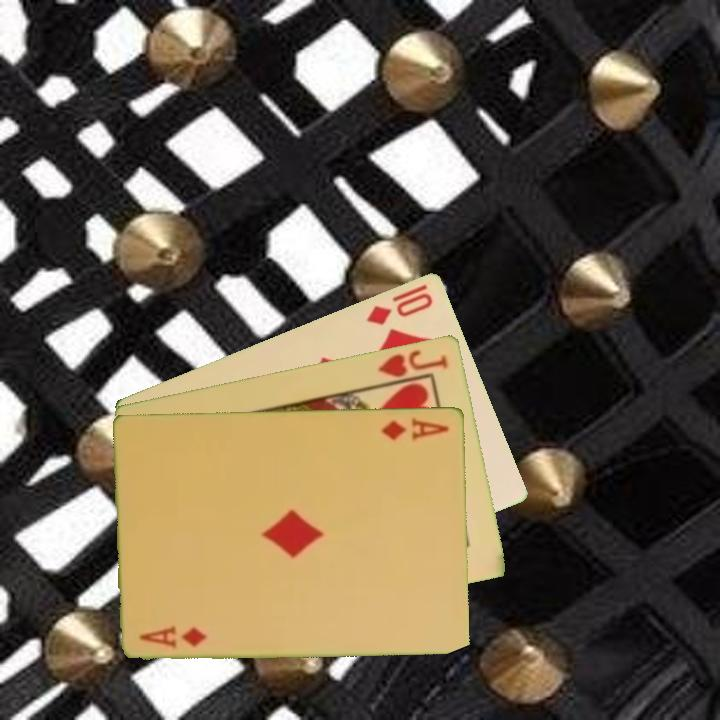10d: (363, 288, 436, 328)
Ad: (378, 413, 453, 443), (136, 622, 211, 651)
Jh: (374, 346, 451, 380)
